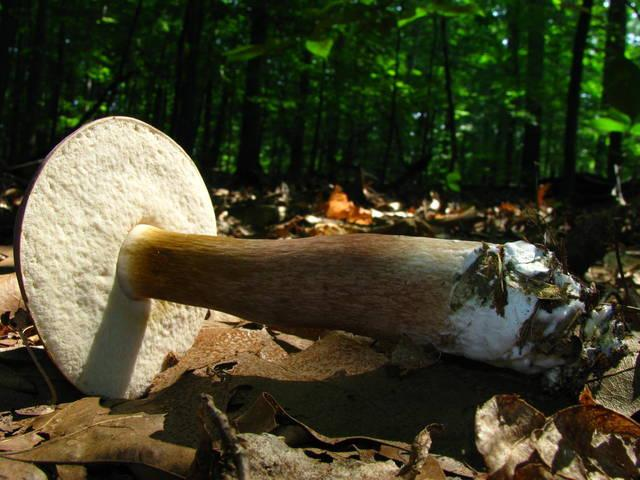Non-edible Mushroom: (12, 113, 640, 400)
